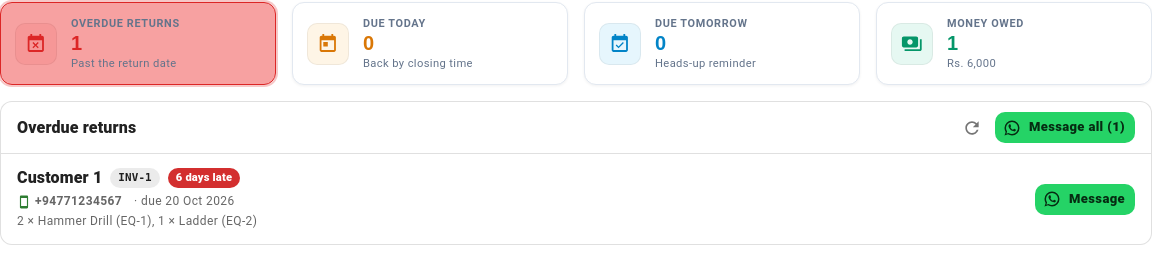
Test: WorklistTab › switches section from the tiles
Expected: the text "Customer 1" is shown, x1=17 y1=166 x2=102 y2=190
Click the text "Money owed": [986, 24] box x1=947 y1=17 x2=1024 y2=30
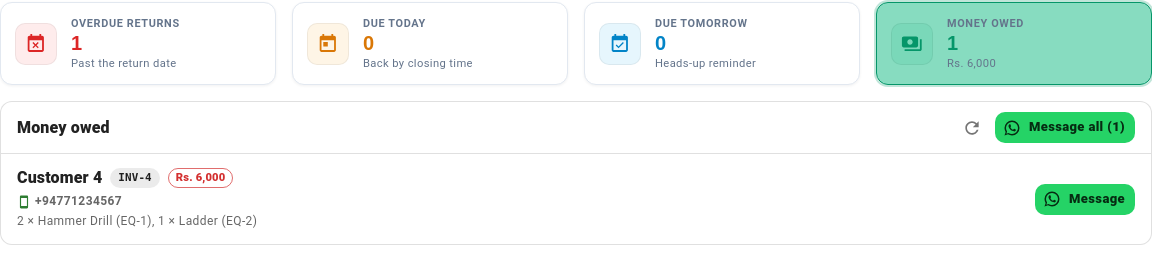
Expected: the text "Customer 4" is shown, x1=17 y1=166 x2=102 y2=190
Expected: the text "Rs. 6,000" next to "INV-4" is shown, x1=176 y1=171 x2=225 y2=184
